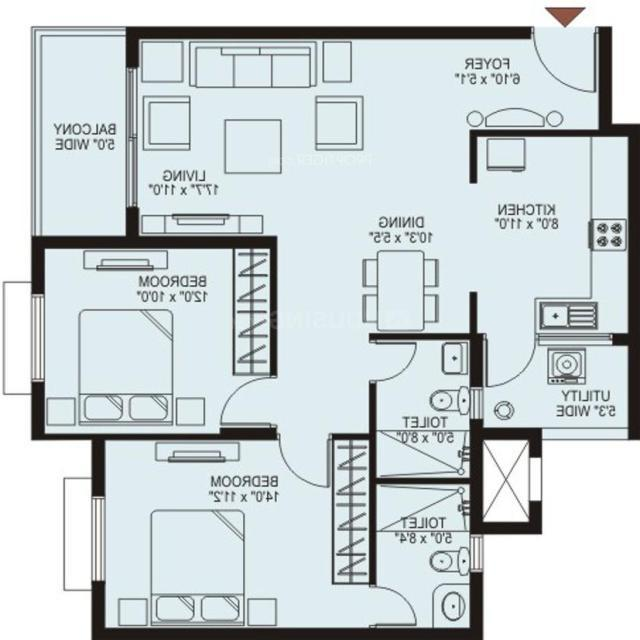Balcony-Sitout: (38, 28, 134, 249)
Bedroom: (30, 239, 276, 441)
Bedroom with Toilet: (89, 436, 486, 640)
Dining: (355, 246, 447, 335)
Enterance-Foyer: (521, 0, 608, 118)
Kitchen: (470, 128, 640, 345)
Living: (126, 24, 368, 246)
Toilet: (367, 478, 480, 640), (371, 333, 484, 494)
Utility: (467, 336, 638, 438)
